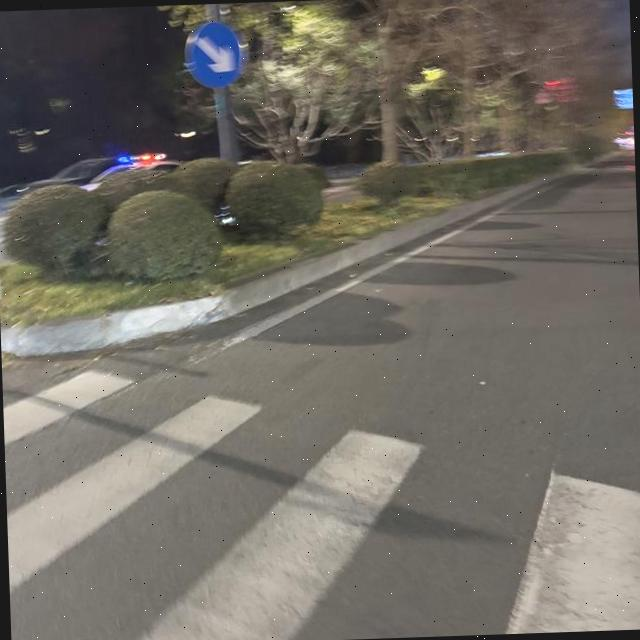curb: (0, 178, 536, 356)
